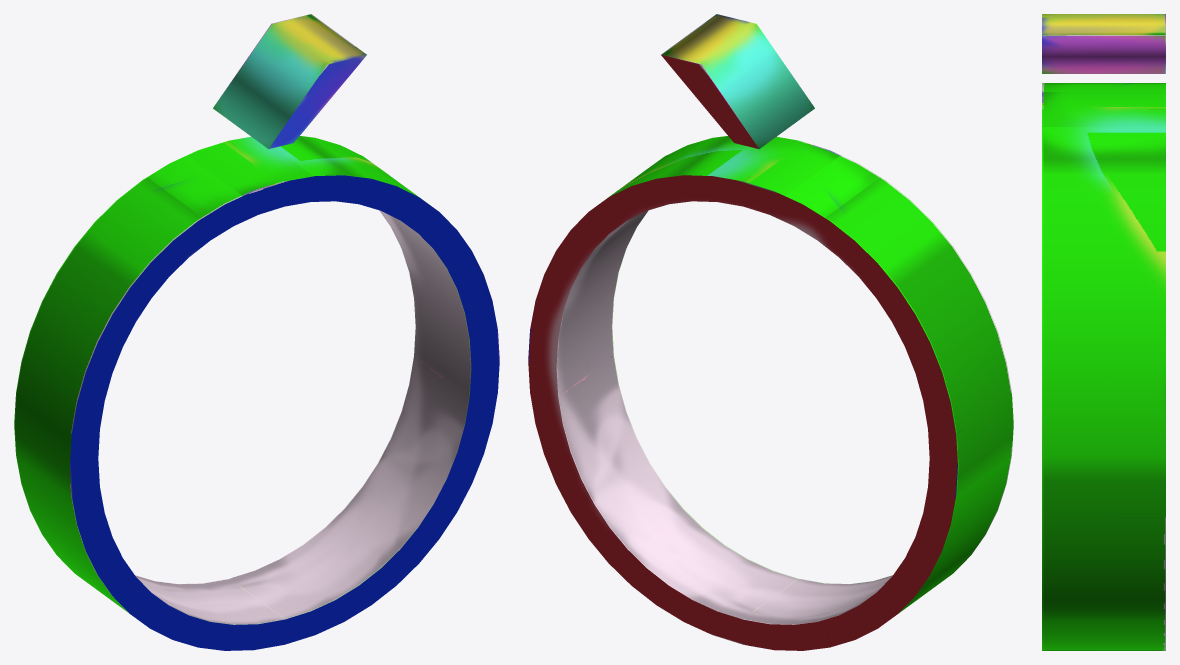
3 renders of one model, left to right at view 1: azimuth 30°, elevation 25°; view 2: azimuth 150°, elevation 25°; view 3: azimuth 270°, elevation 25°, orthographic. The views are drawn at different scales.
Visible parts, largest first — view 1: Text; view 2: Text; view 3: Text.
Boxes of the visible parts, left/top/right/bottom form: Text: left=14, top=14, right=499, bottom=650; Text: left=528, top=14, right=1013, bottom=650; Text: left=1042, top=14, right=1165, bottom=650.
Size of the model in its own units: 0.5784 by 0.7328 by 0.13.
Materials: 1 (1 with a texture image).
